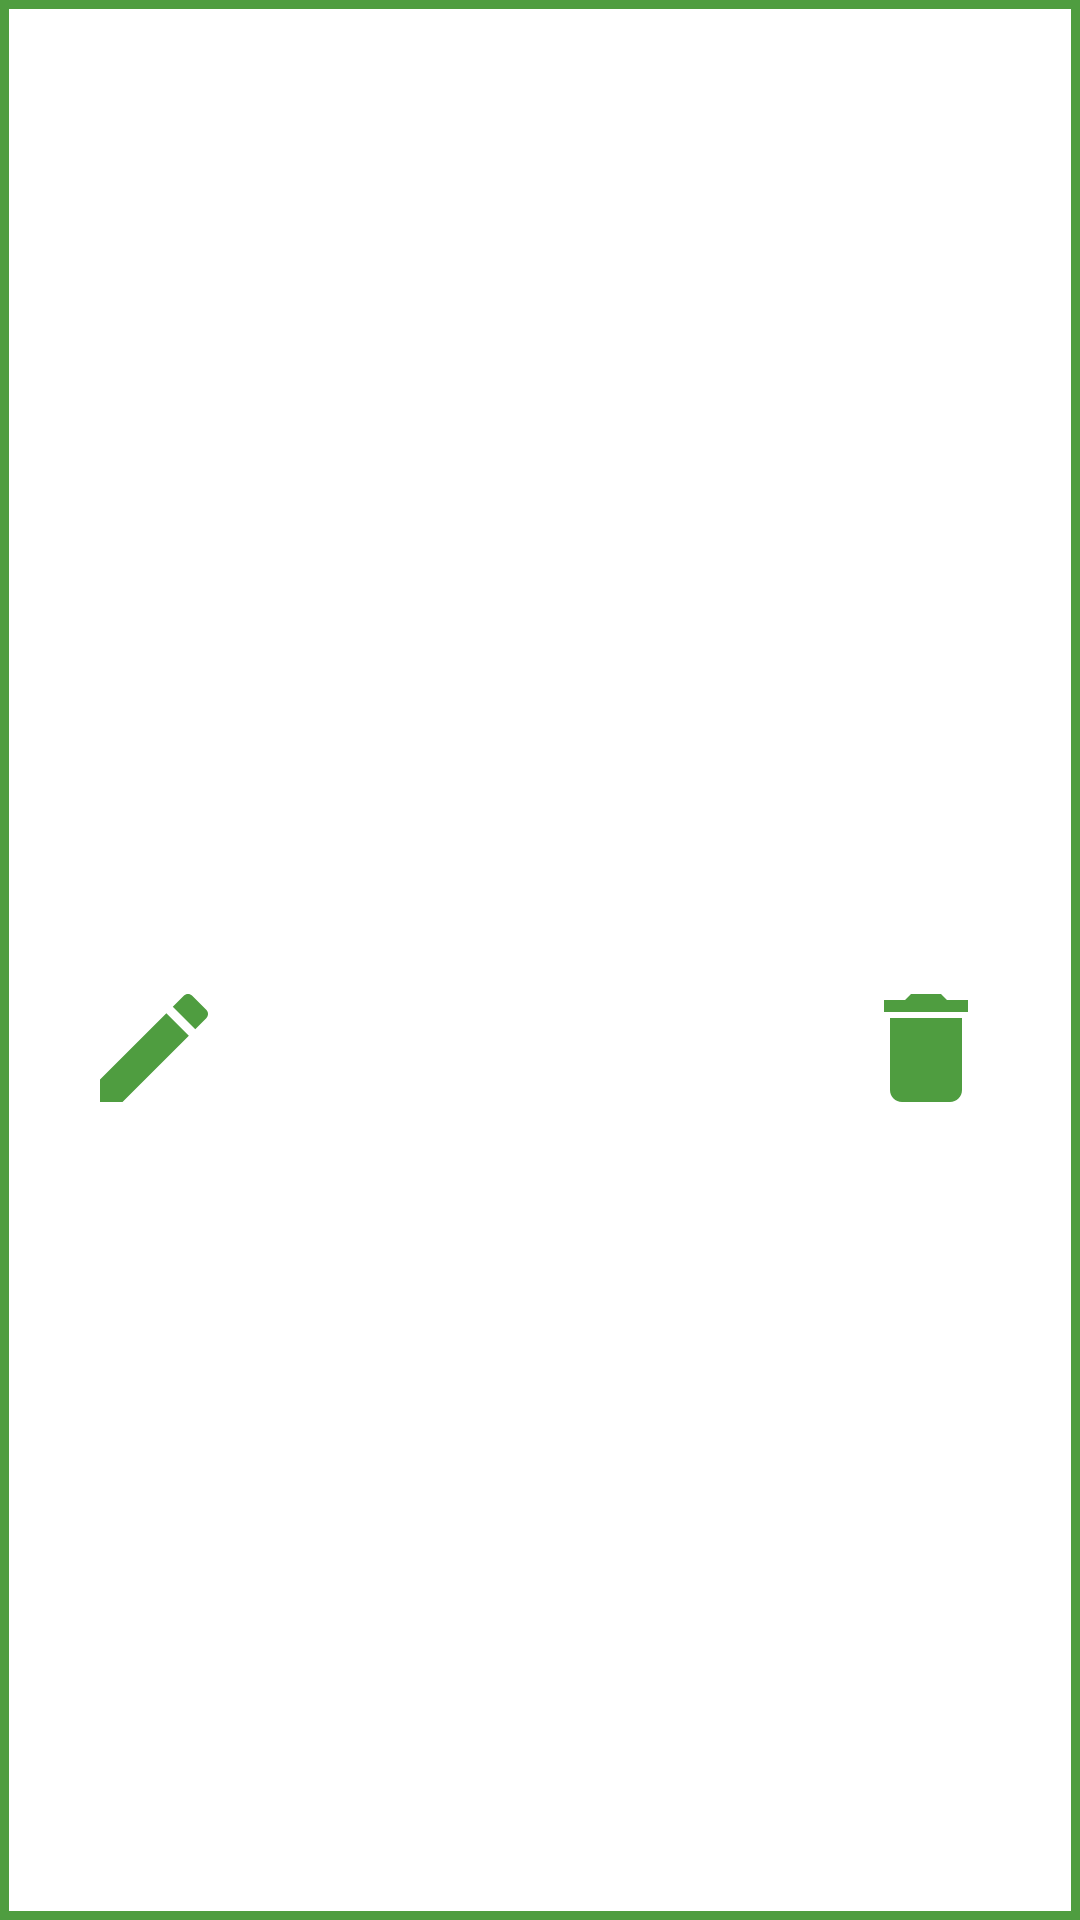

Named icons in this screenshot (1080×1920) and their bounding boxes, bbox(x1, y1, x2, y2):
edit: bbox(100, 994, 208, 1102)
